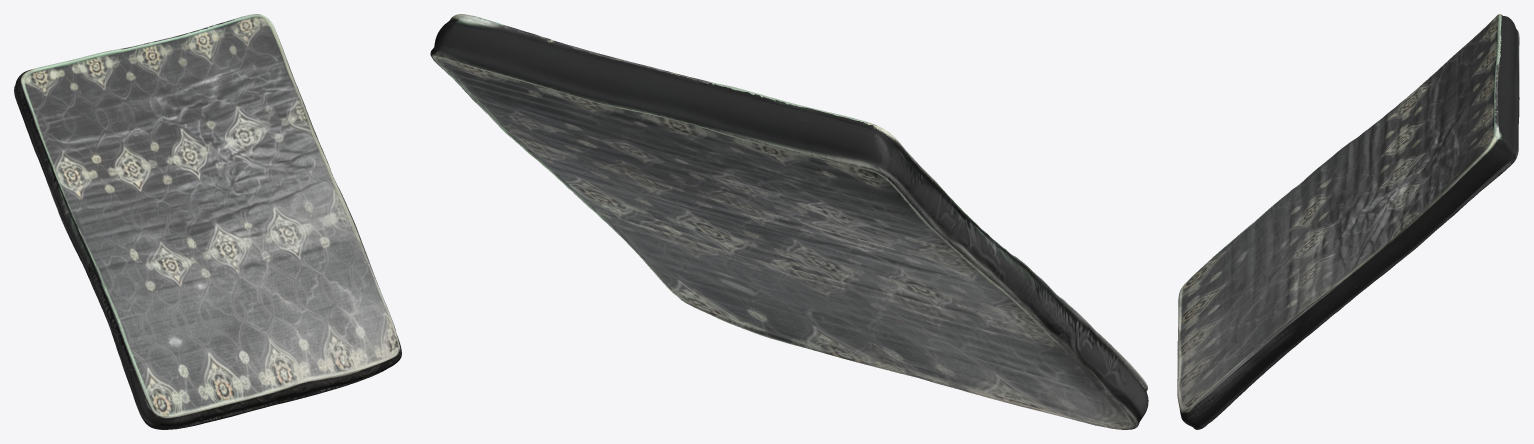
File: mattress-lux3d-original.glb
The picture shows the model from 3 angles, left to right: view 1: azimuth 30°, elevation 25°; view 2: azimuth 150°, elevation 25°; view 3: azimuth 270°, elevation 25°; orthographic projection. The views are drawn at different scales.
Visible parts, largest first — view 1: geometry_0; view 2: geometry_0; view 3: geometry_0.
Part boxes in pixels (bbox=[...]): geometry_0: bbox=[14, 14, 401, 429]; geometry_0: bbox=[430, 14, 1148, 429]; geometry_0: bbox=[1177, 14, 1519, 429].
Size of the model in its own units: 2 by 1.98 by 2.02.
Materials: 1 (1 with a texture image).
